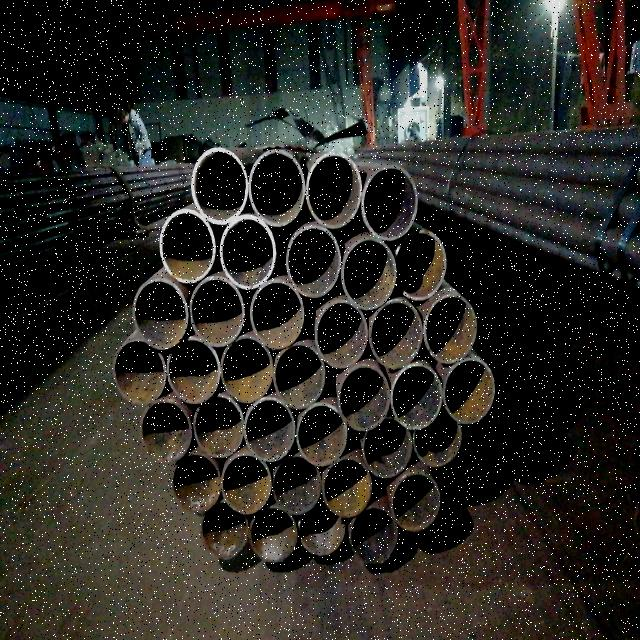pipe: (193, 144, 249, 224), (362, 164, 420, 240), (250, 147, 306, 225), (221, 213, 277, 290), (161, 208, 217, 282), (308, 152, 362, 228), (133, 277, 190, 349), (288, 225, 342, 298), (343, 238, 397, 310), (390, 362, 447, 430), (424, 294, 479, 364), (191, 275, 245, 345), (251, 278, 305, 348), (396, 228, 448, 300), (167, 335, 222, 403), (315, 301, 369, 369), (444, 356, 498, 424), (111, 339, 167, 404), (370, 301, 424, 368), (338, 363, 391, 431), (220, 336, 274, 402), (141, 399, 193, 464), (274, 344, 326, 408), (193, 393, 245, 457), (244, 397, 296, 461), (297, 402, 349, 466), (391, 472, 444, 532), (200, 499, 250, 562), (298, 494, 347, 558), (412, 406, 464, 466), (362, 417, 414, 477), (221, 454, 273, 514), (322, 456, 373, 516), (272, 455, 323, 515), (171, 454, 223, 512), (350, 506, 400, 564), (250, 504, 298, 564)
